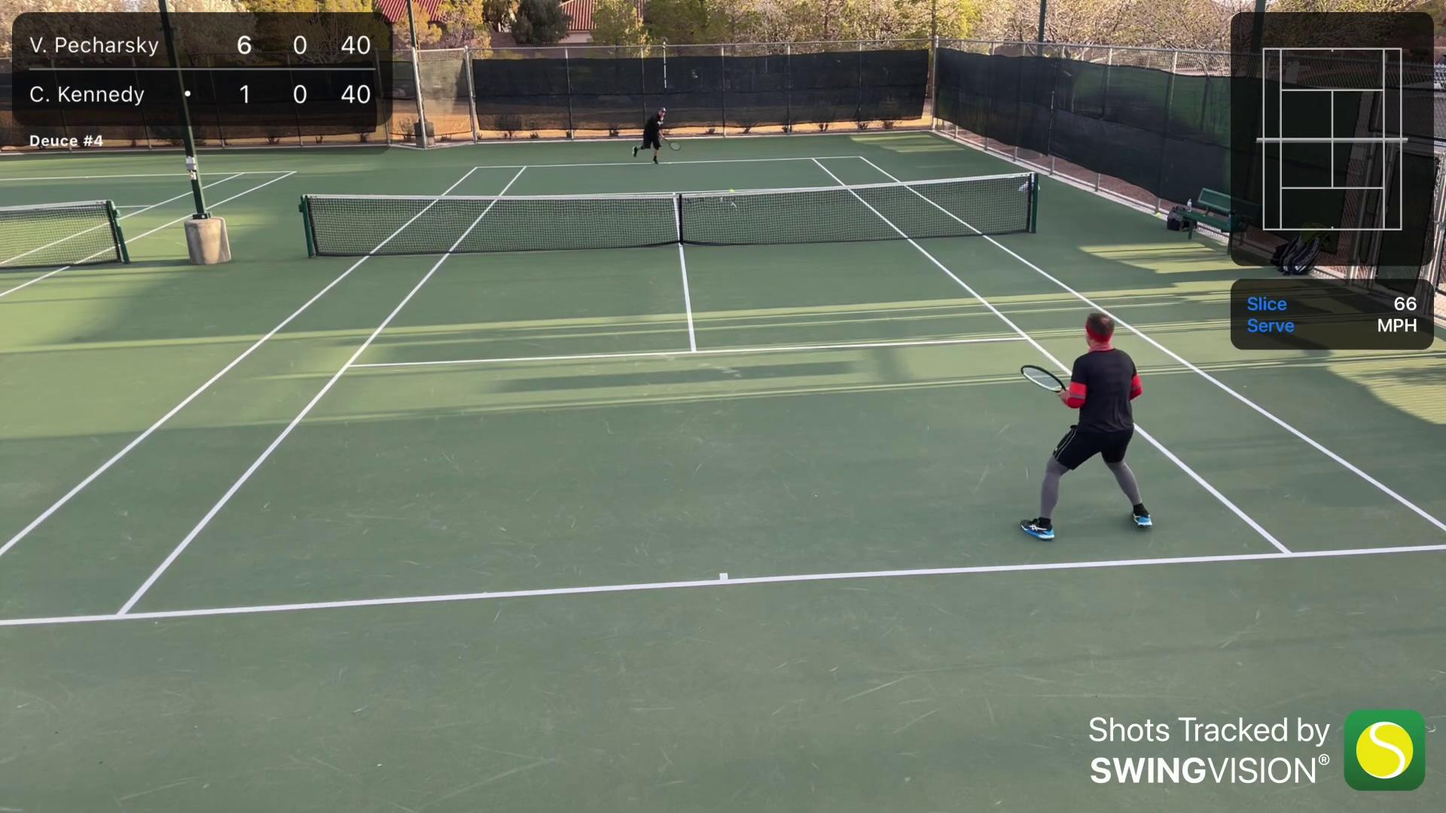ball: (728, 187, 735, 193)
